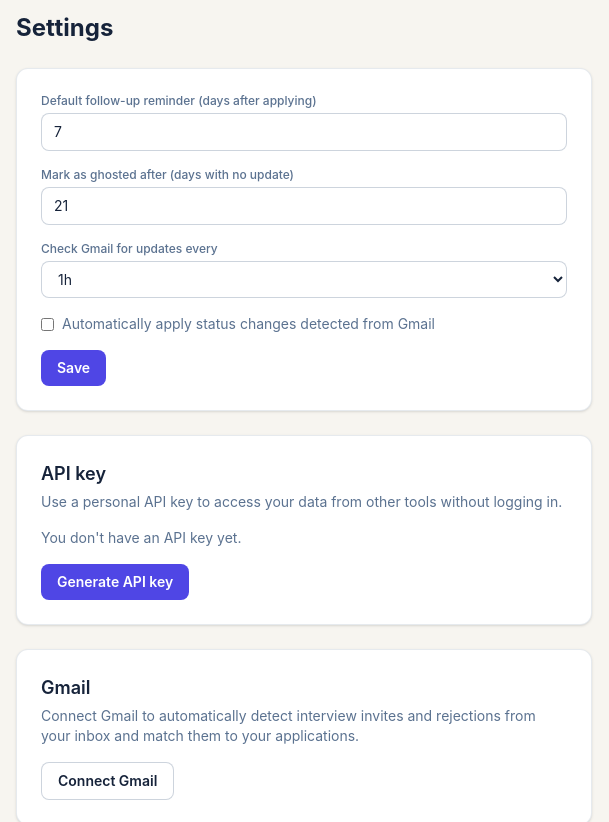
Test case: SettingsPage › saves updated settings and shows a confirmation (happy path)
The width and height of the screenshot is (609, 822).
Replace the text in the number field labelled "Default follow-up reminder (days after applying)" with "14": (304, 132) 41,113 -> 567,151
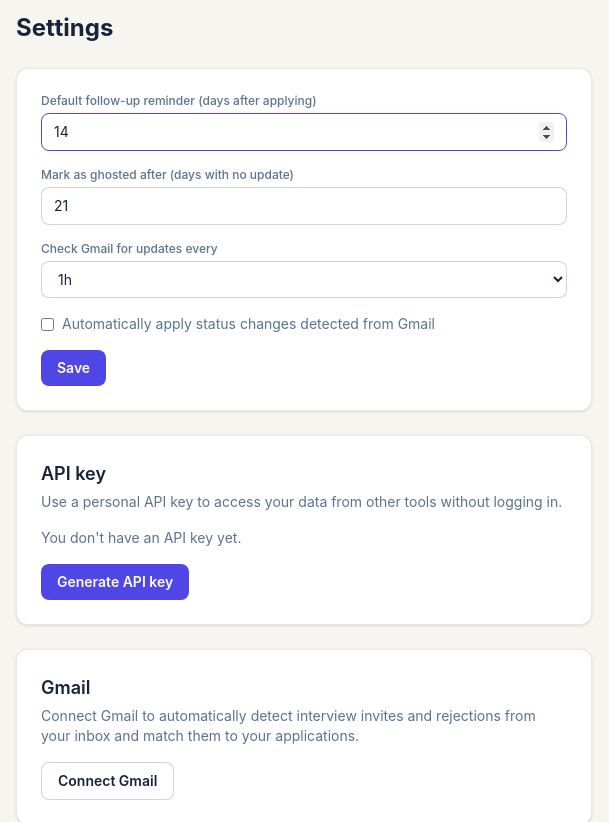
Click the button "Save": (74, 368) 41,350 -> 106,386
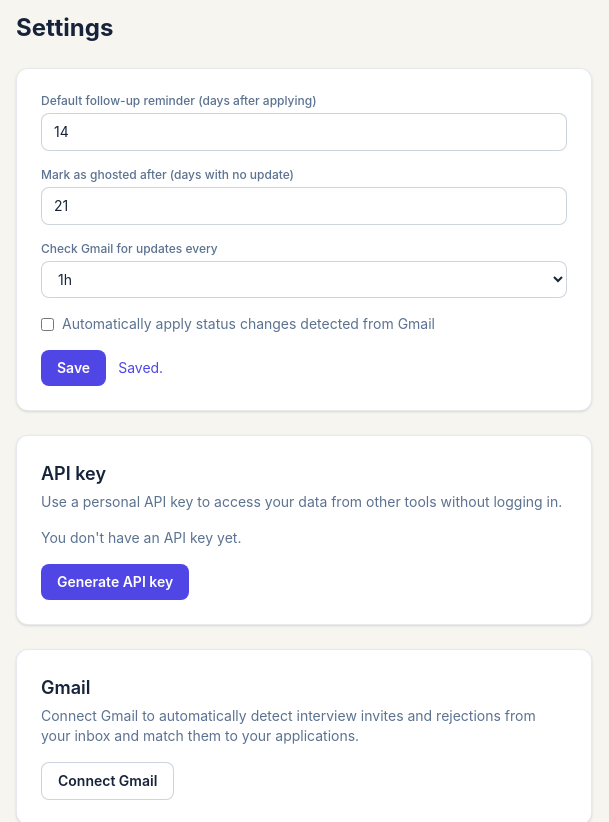
Expected: the text "Saved." is shown, 118,358 -> 163,378
